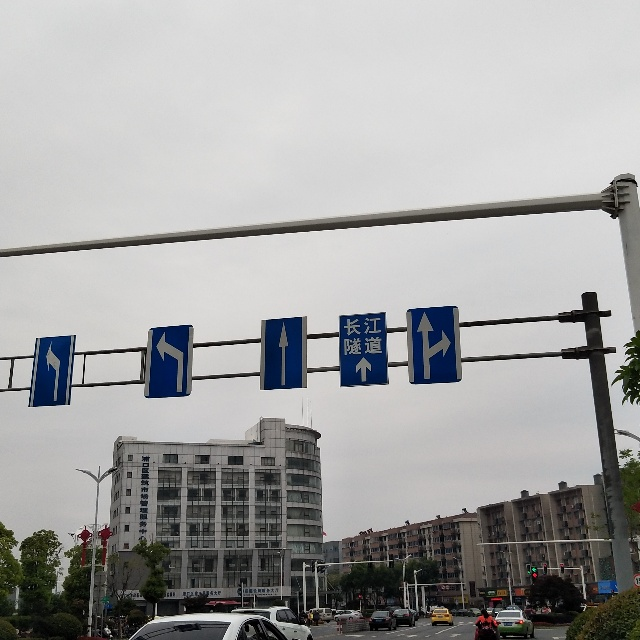left: (144, 325, 193, 399), (29, 335, 75, 408)
straight: (260, 316, 308, 391)
